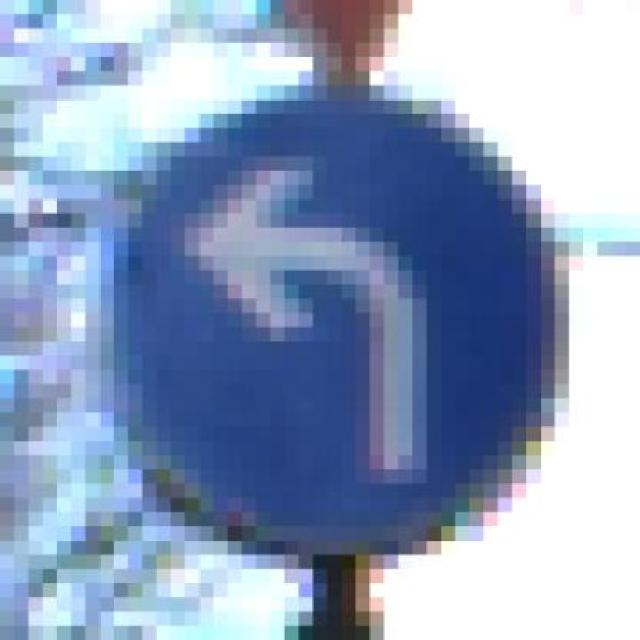Turn left ahead: (71, 79, 597, 564)
